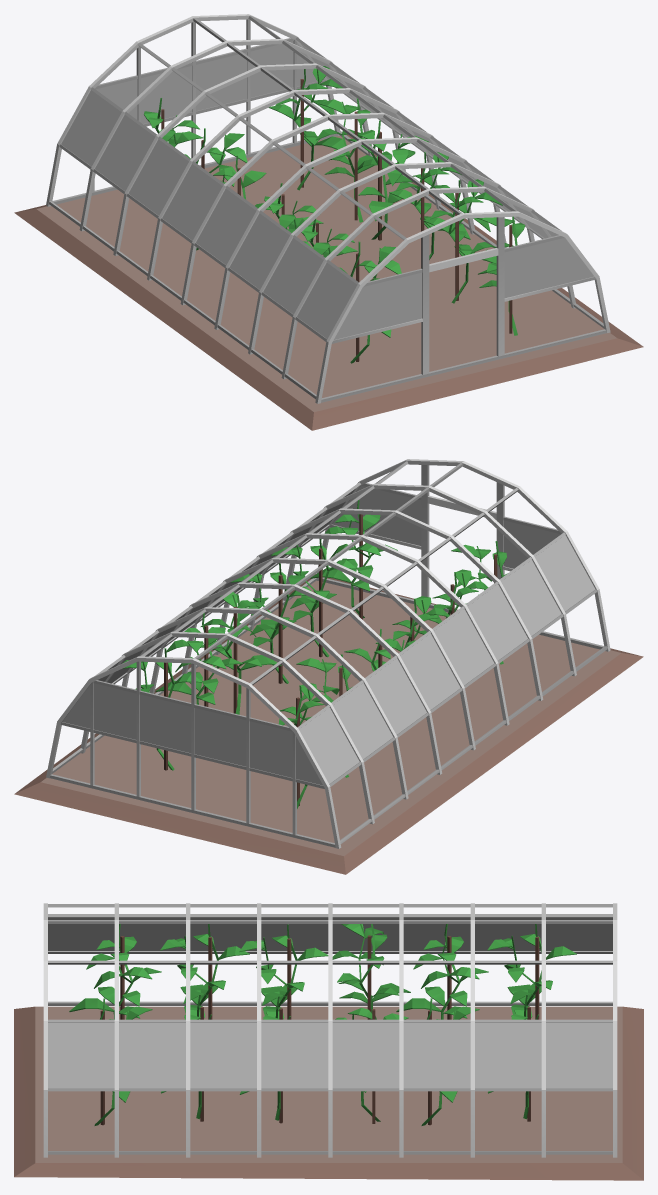
Rendered from greenhouse_004.glb.
The picture shows the model from 3 angles, top to bottom: view 1: azimuth 30°, elevation 25°; view 2: azimuth 150°, elevation 25°; view 3: azimuth 270°, elevation 25°; orthographic projection. The views are drawn at different scales.
Parts seen in each view (by area): view 1: greenhouse_004; view 2: greenhouse_004; view 3: greenhouse_004.
Boxes of the visible parts, bbox=[...] form: greenhouse_004: bbox=[14, 14, 643, 430]; greenhouse_004: bbox=[14, 459, 643, 874]; greenhouse_004: bbox=[14, 903, 643, 1180].
Size of the model in its own units: 5.69 by 2.72 by 8.85.
1 material, 1 textured.
